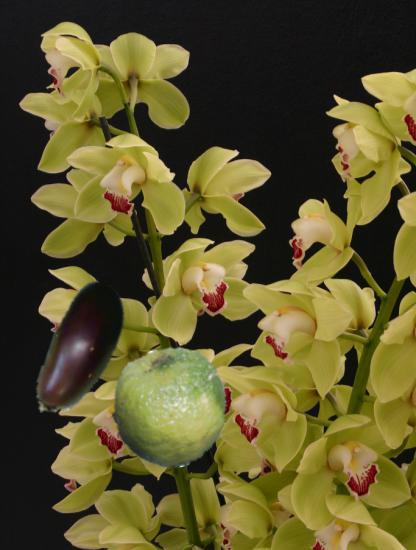Eggplant: (8, 276, 155, 423)
Limes: (110, 348, 231, 469)
